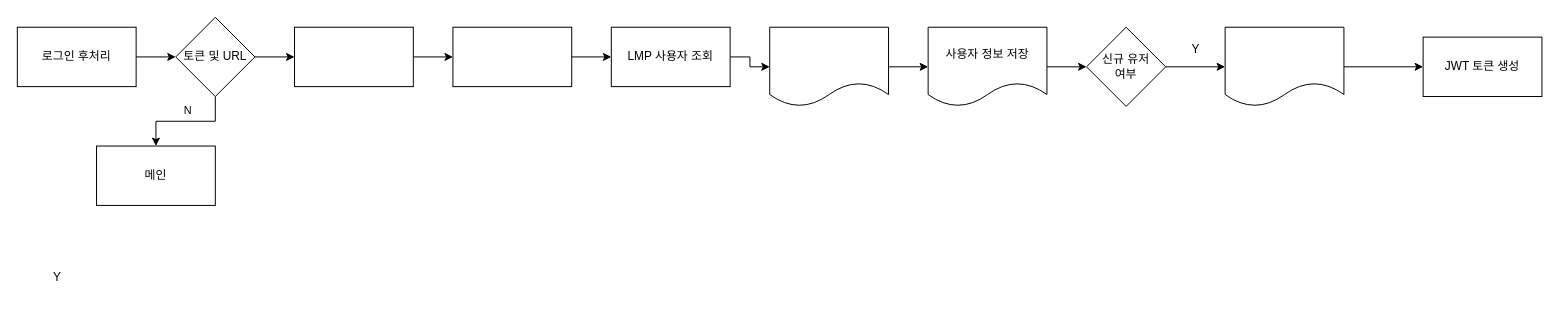
This 1559x310 diagram has some shape labels left out. The centre of each missing label's shape, as x and y in pixels:
"LMP 세션 발급" belongs at [512,56].
"LMP 토큰 발급" belongs at [353,56].
"권한 정보 저장" belongs at [1284,66].
"사용자 EMP 저장" belongs at [829,66].
